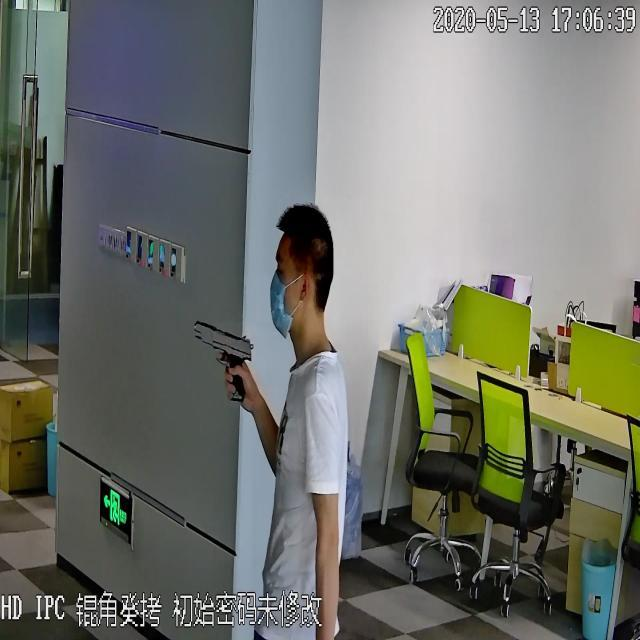gun: (193, 311, 259, 403)
